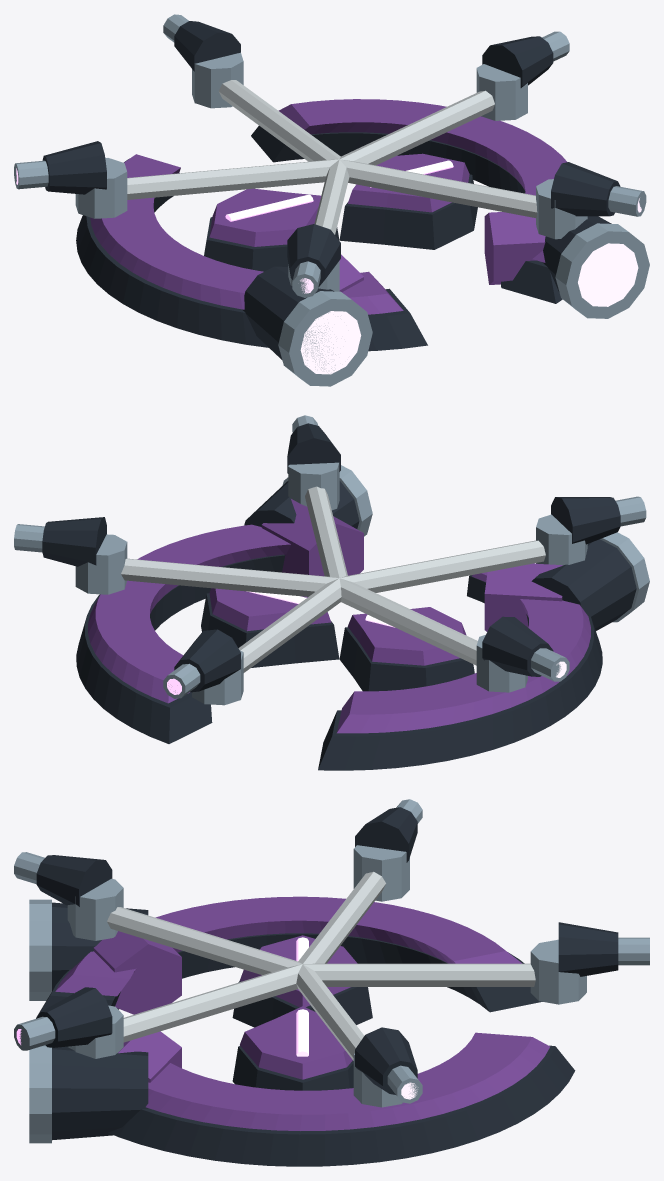
The model's file is c5_torusEnemy.glb.
3 views of the same model, one above another, from view 1: azimuth 30°, elevation 25°; view 2: azimuth 150°, elevation 25°; view 3: azimuth 270°, elevation 25° (orthographic). The views are drawn at different scales.
Visible parts, largest first — view 1: torusEnemy / Armor, torusEnemy / Chassis, ring_rotor / Identification, ring_rotor / Chassis, ring_rotor / Titanium, torusEnemy / Titanium, torusEnemy / Energy; view 2: torusEnemy / Armor, torusEnemy / Chassis, ring_rotor / Identification, ring_rotor / Chassis, ring_rotor / Titanium, torusEnemy / Titanium; view 3: torusEnemy / Armor, torusEnemy / Chassis, ring_rotor / Identification, ring_rotor / Chassis, ring_rotor / Titanium, torusEnemy / Titanium, torusEnemy / Energy.
Boxes of the visible parts, x1,y1,x2,y2 form: torusEnemy / Armor: [90, 99, 567, 314]; torusEnemy / Chassis: [76, 126, 611, 359]; ring_rotor / Identification: [127, 80, 537, 234]; ring_rotor / Chassis: [42, 21, 620, 287]; ring_rotor / Titanium: [14, 14, 646, 297]; torusEnemy / Titanium: [278, 223, 649, 386]; torusEnemy / Energy: [225, 160, 638, 374]; torusEnemy / Armor: [88, 499, 590, 733]; torusEnemy / Chassis: [76, 481, 636, 770]; ring_rotor / Identification: [121, 486, 545, 672]; ring_rotor / Chassis: [42, 423, 620, 692]; ring_rotor / Titanium: [14, 415, 646, 705]; torusEnemy / Titanium: [282, 465, 649, 622]; torusEnemy / Armor: [55, 896, 550, 1130]; torusEnemy / Chassis: [36, 902, 575, 1166]; ring_rotor / Identification: [107, 871, 535, 1060]; ring_rotor / Chassis: [36, 807, 618, 1094]; ring_rotor / Titanium: [14, 799, 649, 1107]; torusEnemy / Titanium: [29, 899, 51, 1143]; torusEnemy / Energy: [296, 937, 308, 1056].
Size of the model in its own units: 1.91 by 0.45 by 1.81.
